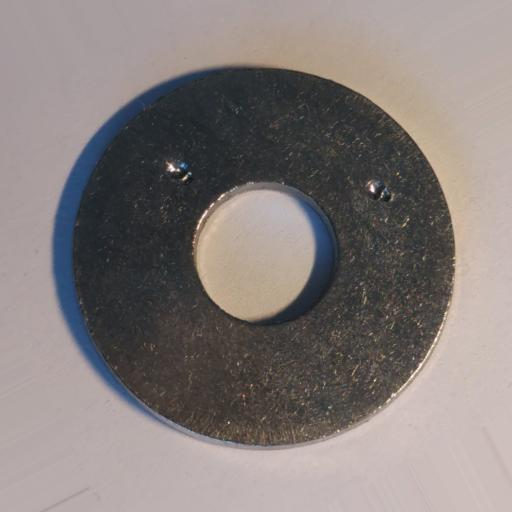circular_cavity: (165, 161, 193, 185), (365, 180, 392, 203)
